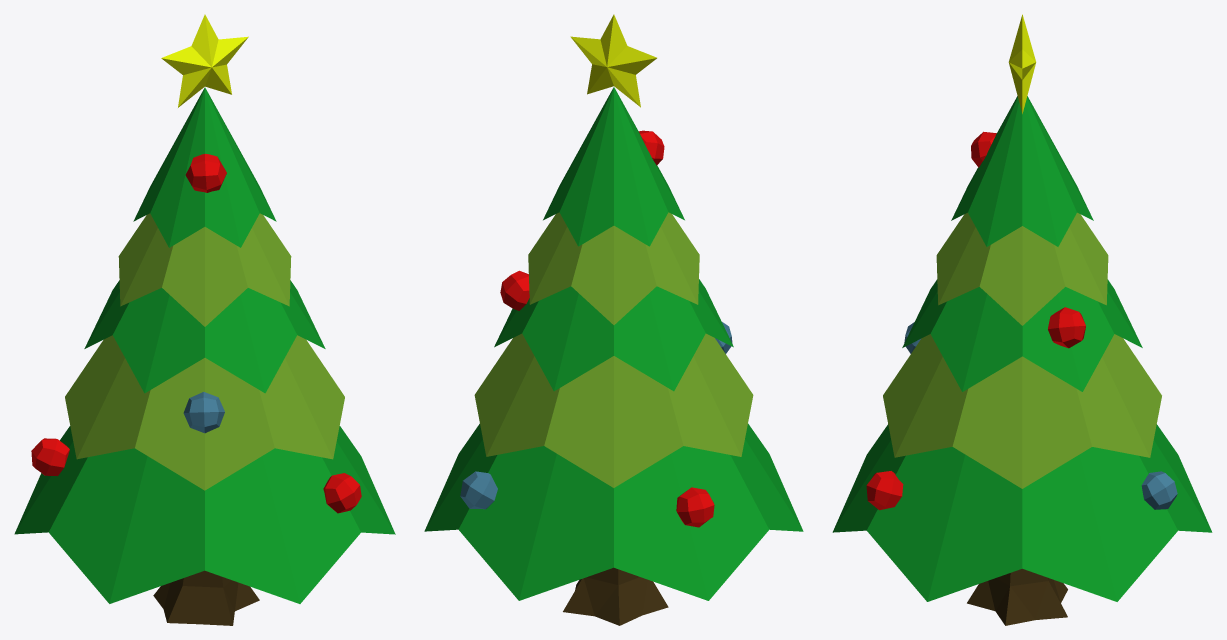
Rendered from pine_tree (2).fbx.
3 views of the same model, side by side, from view 1: azimuth 30°, elevation 25°; view 2: azimuth 150°, elevation 25°; view 3: azimuth 270°, elevation 25° (orthographic).
Parts seen in each view (by area): view 1: tree_christmas; view 2: tree_christmas; view 3: tree_christmas.
Boxes of the visible parts, box(x1,y1,x2,y2) form: tree_christmas: box(14, 14, 395, 625); tree_christmas: box(424, 14, 803, 625); tree_christmas: box(832, 14, 1212, 625).
Size of the model in its own units: 307 by 555 by 324.
Materials: 1 (1 with a texture image).
